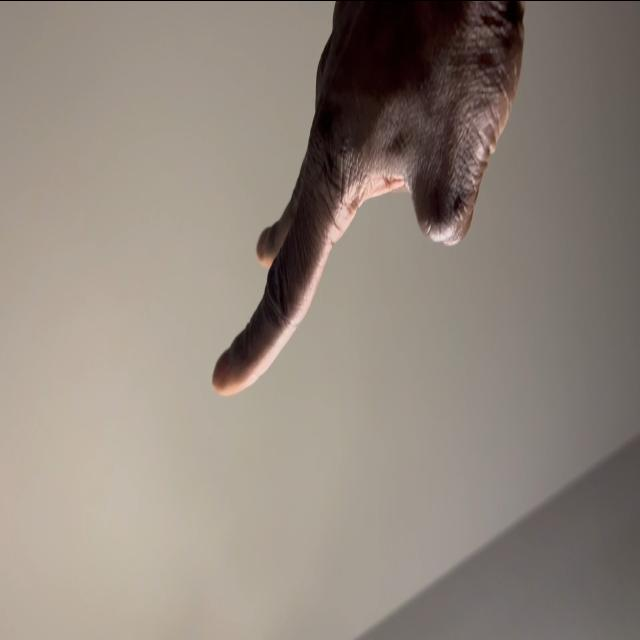Scissors: (208, 0, 526, 396)
